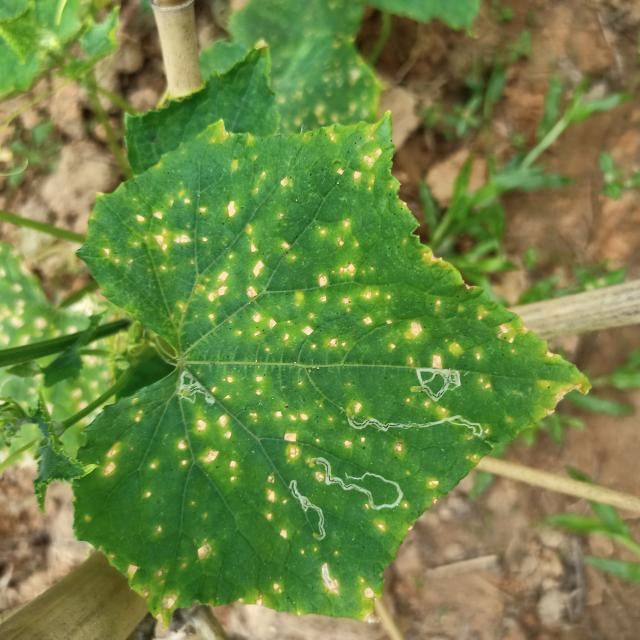disease_cucumber: (92, 124, 558, 375), (79, 362, 508, 620)
